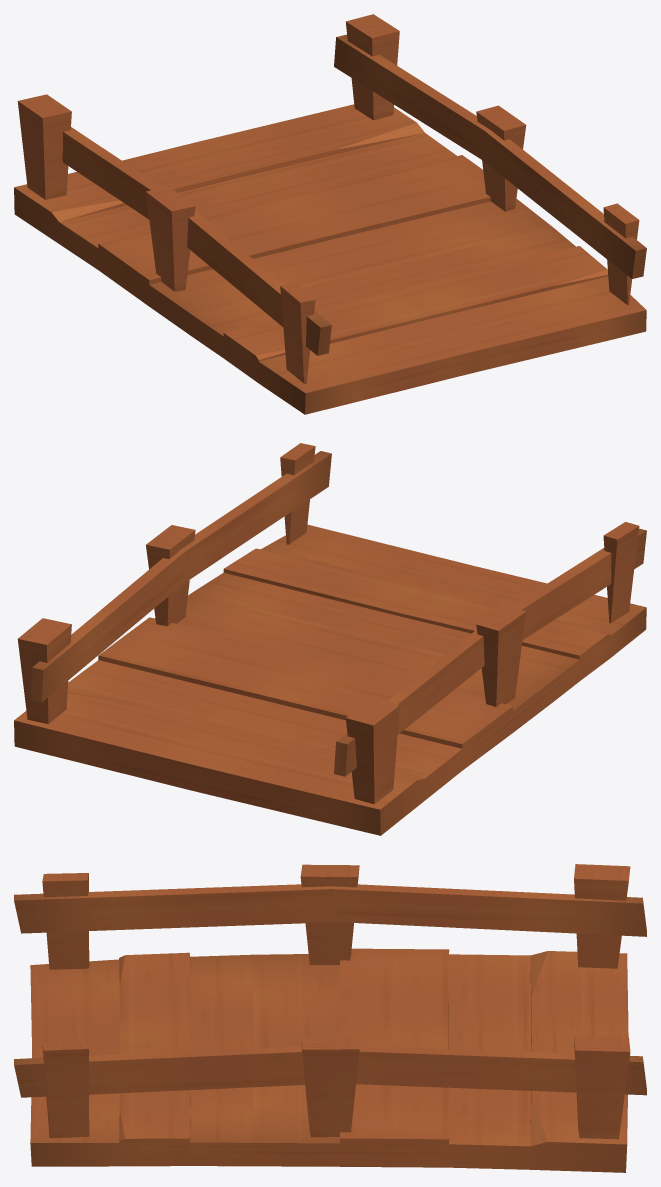
The model's file is Bridge.fbx.
The picture shows the model from 3 angles, top to bottom: view 1: azimuth 30°, elevation 25°; view 2: azimuth 150°, elevation 25°; view 3: azimuth 270°, elevation 25°; orthographic projection. The views are drawn at different scales.
Visible parts, largest first — view 1: Bridge; view 2: Bridge; view 3: Bridge.
Part boxes in pixels (x1=…): Bridge: x1=14, y1=14, x2=646, y2=414; Bridge: x1=14, y1=443, x2=646, y2=835; Bridge: x1=14, y1=864, x2=646, y2=1172.
Size of the model in its own units: 181 by 53.25 by 253.
